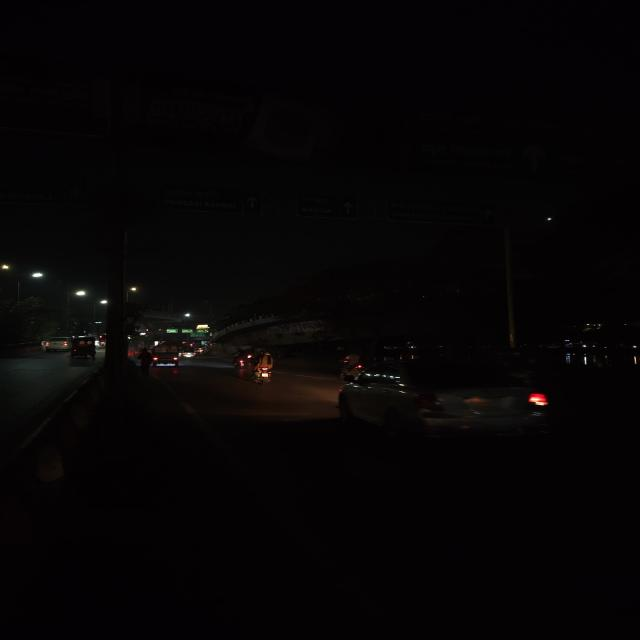car: (328, 348, 558, 449), (41, 336, 74, 354)
motorcycle: (245, 348, 283, 388), (336, 351, 374, 386)
pickup_van: (151, 340, 182, 370)
